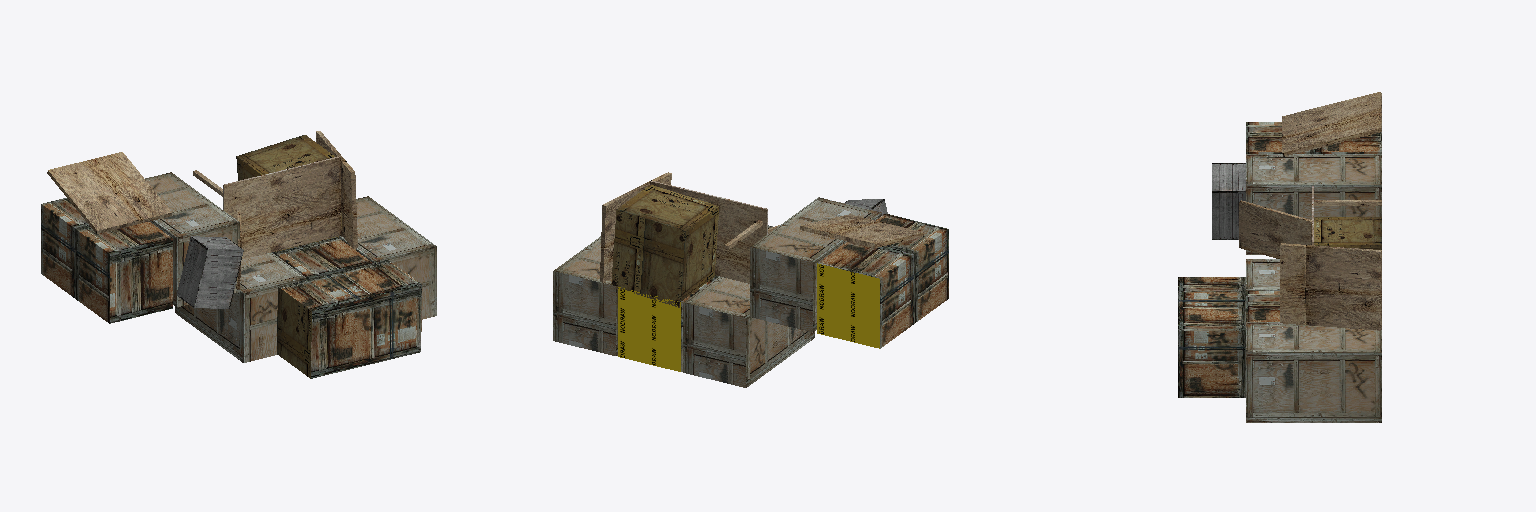
3 renders of one model, left to right at view 1: azimuth 30°, elevation 25°; view 2: azimuth 150°, elevation 25°; view 3: azimuth 270°, elevation 25°, orthographic.
Visible parts, largest first — view 1: 87, 79, 92, 85, 78, 84, 81, 80, 91, 88, 90; view 2: 79, 91, 85, 81, 84, 88, 92, 78, 90; view 3: 84, 87, 90, 81, 78, 83, 80, 79, 91, 85, 88.
Part boxes in pixels (x1,y1,x2,y2): 87: (277, 260, 421, 378); 79: (41, 198, 172, 323); 92: (223, 156, 340, 258); 85: (175, 252, 306, 362); 78: (47, 152, 171, 233); 84: (339, 196, 436, 319); 81: (145, 172, 239, 307); 80: (177, 236, 243, 308); 91: (236, 135, 341, 251); 88: (272, 237, 371, 278); 90: (316, 131, 357, 249); 79: (817, 214, 948, 348); 91: (611, 185, 718, 307); 85: (683, 276, 814, 387); 81: (750, 197, 881, 331); 84: (553, 236, 617, 355); 88: (618, 275, 718, 371); 92: (650, 181, 767, 283); 78: (800, 214, 923, 247); 90: (600, 172, 671, 282); 84: (1246, 322, 1381, 422); 87: (1178, 277, 1245, 397); 90: (1280, 243, 1381, 330); 81: (1246, 154, 1381, 254); 78: (1282, 92, 1381, 156); 83: (1239, 200, 1311, 258); 80: (1212, 163, 1245, 239); 79: (1246, 122, 1381, 153); 91: (1314, 217, 1381, 249); 85: (1246, 259, 1279, 290); 88: (1246, 291, 1279, 321).
Bounding box in the file's own units: 166 × 84.92 × 90.
Materials: 7 (7 with a texture image).